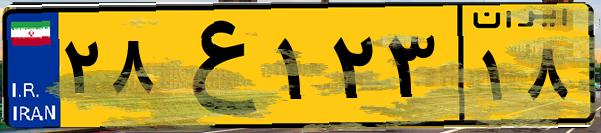1: (270, 28, 330, 110), (475, 38, 525, 113)
2: (330, 28, 385, 110), (57, 26, 110, 100)
3: (385, 28, 445, 110)
8: (525, 38, 570, 115), (110, 28, 158, 98)
ع: (158, 12, 270, 120)
